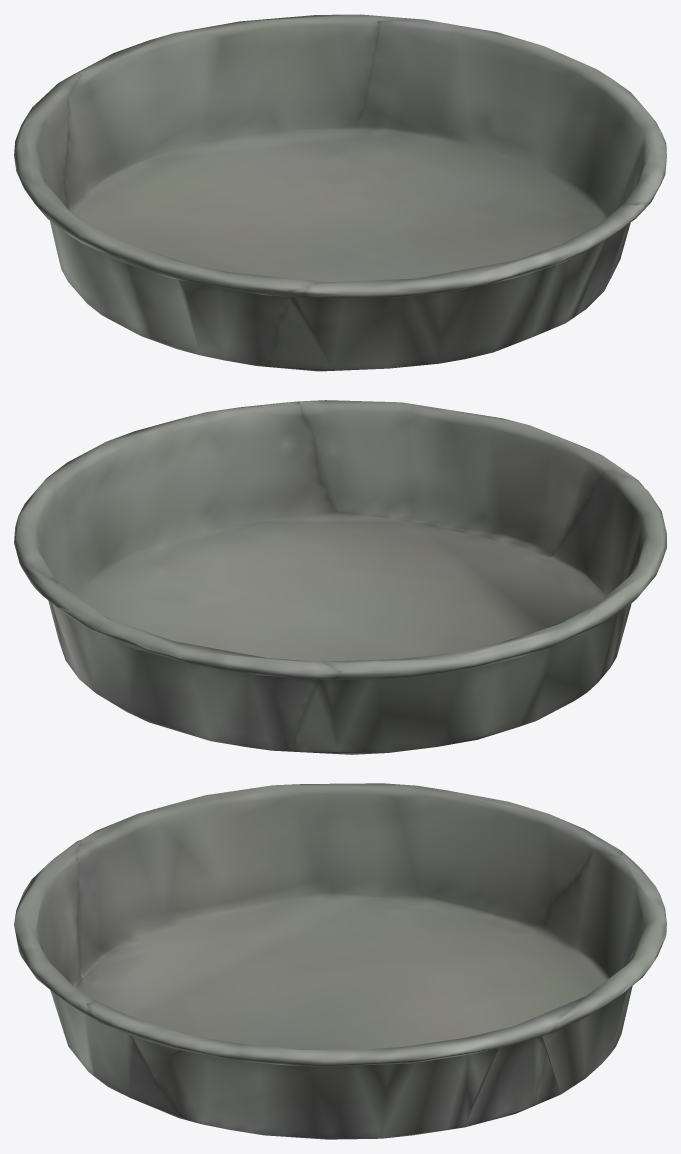
The model's file is Chef_Style_Round_Cake_Pan_9_inch_pan-medium.glb.
3 renders of one model, top to bottom at view 1: azimuth 30°, elevation 25°; view 2: azimuth 150°, elevation 25°; view 3: azimuth 270°, elevation 25°, orthographic.
Parts seen in each view (by area): view 1: Chef_Style_Round_Cake_Pan_9_inch_pan; view 2: Chef_Style_Round_Cake_Pan_9_inch_pan; view 3: Chef_Style_Round_Cake_Pan_9_inch_pan.
Boxes of the visible parts, box(x1,y1,x2,y2) form: Chef_Style_Round_Cake_Pan_9_inch_pan: box(14, 14, 666, 371); Chef_Style_Round_Cake_Pan_9_inch_pan: box(14, 400, 666, 754); Chef_Style_Round_Cake_Pan_9_inch_pan: box(14, 783, 666, 1139).
Bounding box in the file's own units: 0.2457 × 0.0449 × 0.2458.
1 material, 1 textured.
